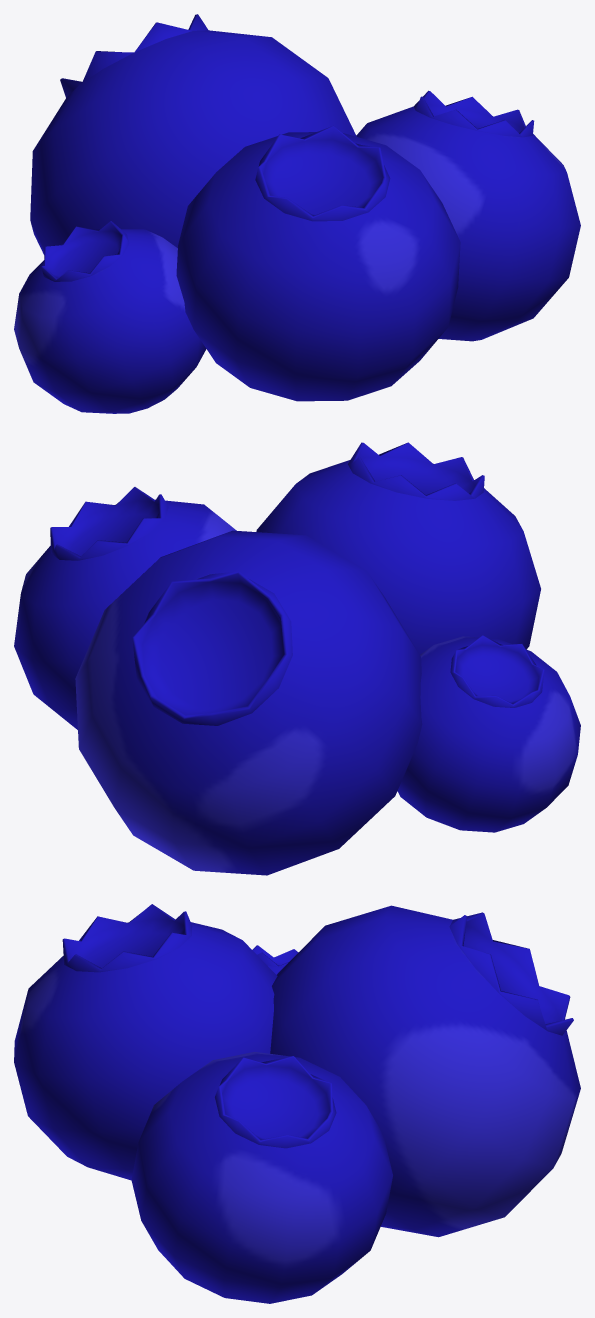
The model's file is hat_blueberries.glb.
3 views of the same model, one above another, from view 1: azimuth 30°, elevation 25°; view 2: azimuth 150°, elevation 25°; view 3: azimuth 270°, elevation 25° (orthographic). The views are drawn at different scales.
Visible parts, largest first — view 1: hat_blueberries; view 2: hat_blueberries; view 3: hat_blueberries.
Part boxes in pixels (box(x1,y1,x2,y2)): hat_blueberries: box(14, 14, 580, 413); hat_blueberries: box(14, 442, 580, 875); hat_blueberries: box(14, 904, 580, 1303).
Size of the model in its own units: 0.5293 by 0.2883 by 0.4963.
Materials: 1 (1 with a texture image).
